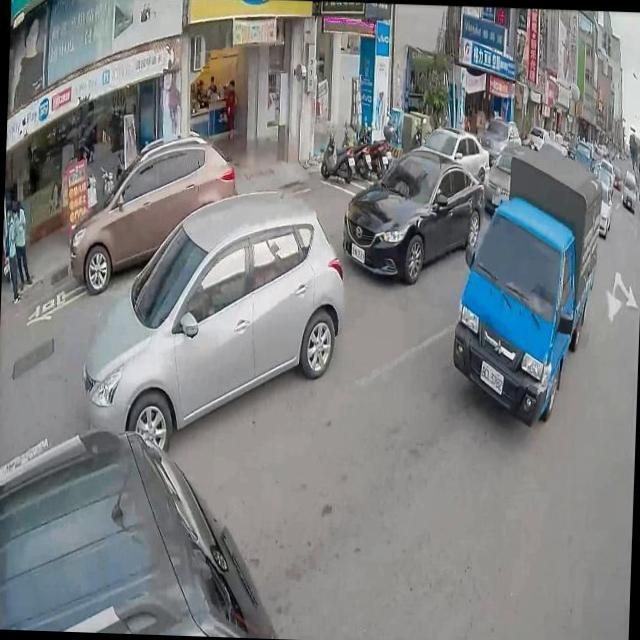person: (222, 78, 238, 134)
